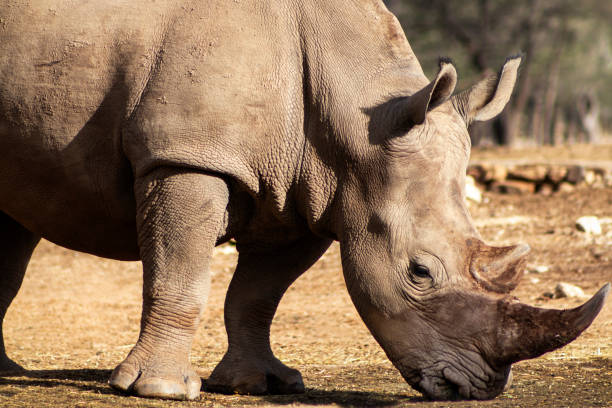rhino: (317, 45, 612, 402)
